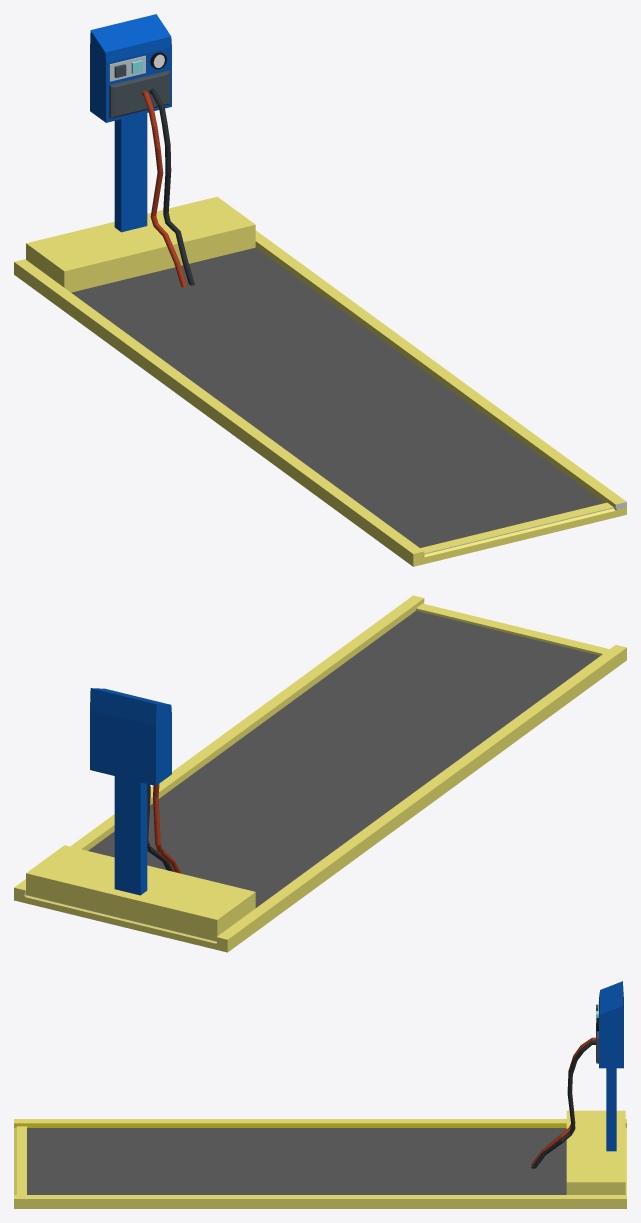
The model's file is MHE_Station.fbx.
The picture shows the model from 3 angles, top to bottom: view 1: azimuth 30°, elevation 25°; view 2: azimuth 150°, elevation 25°; view 3: azimuth 270°, elevation 25°; orthographic projection. The views are drawn at different scales.
Visible parts, largest first — view 1: MHE_Charger; view 2: MHE_Charger; view 3: MHE_Charger.
Boxes of the visible parts, x1,y1,x2,y2 form: MHE_Charger: (14, 14, 626, 566); MHE_Charger: (14, 595, 626, 952); MHE_Charger: (14, 981, 626, 1208).
Size of the model in its own units: 1.32 by 1.39 by 4.29.
